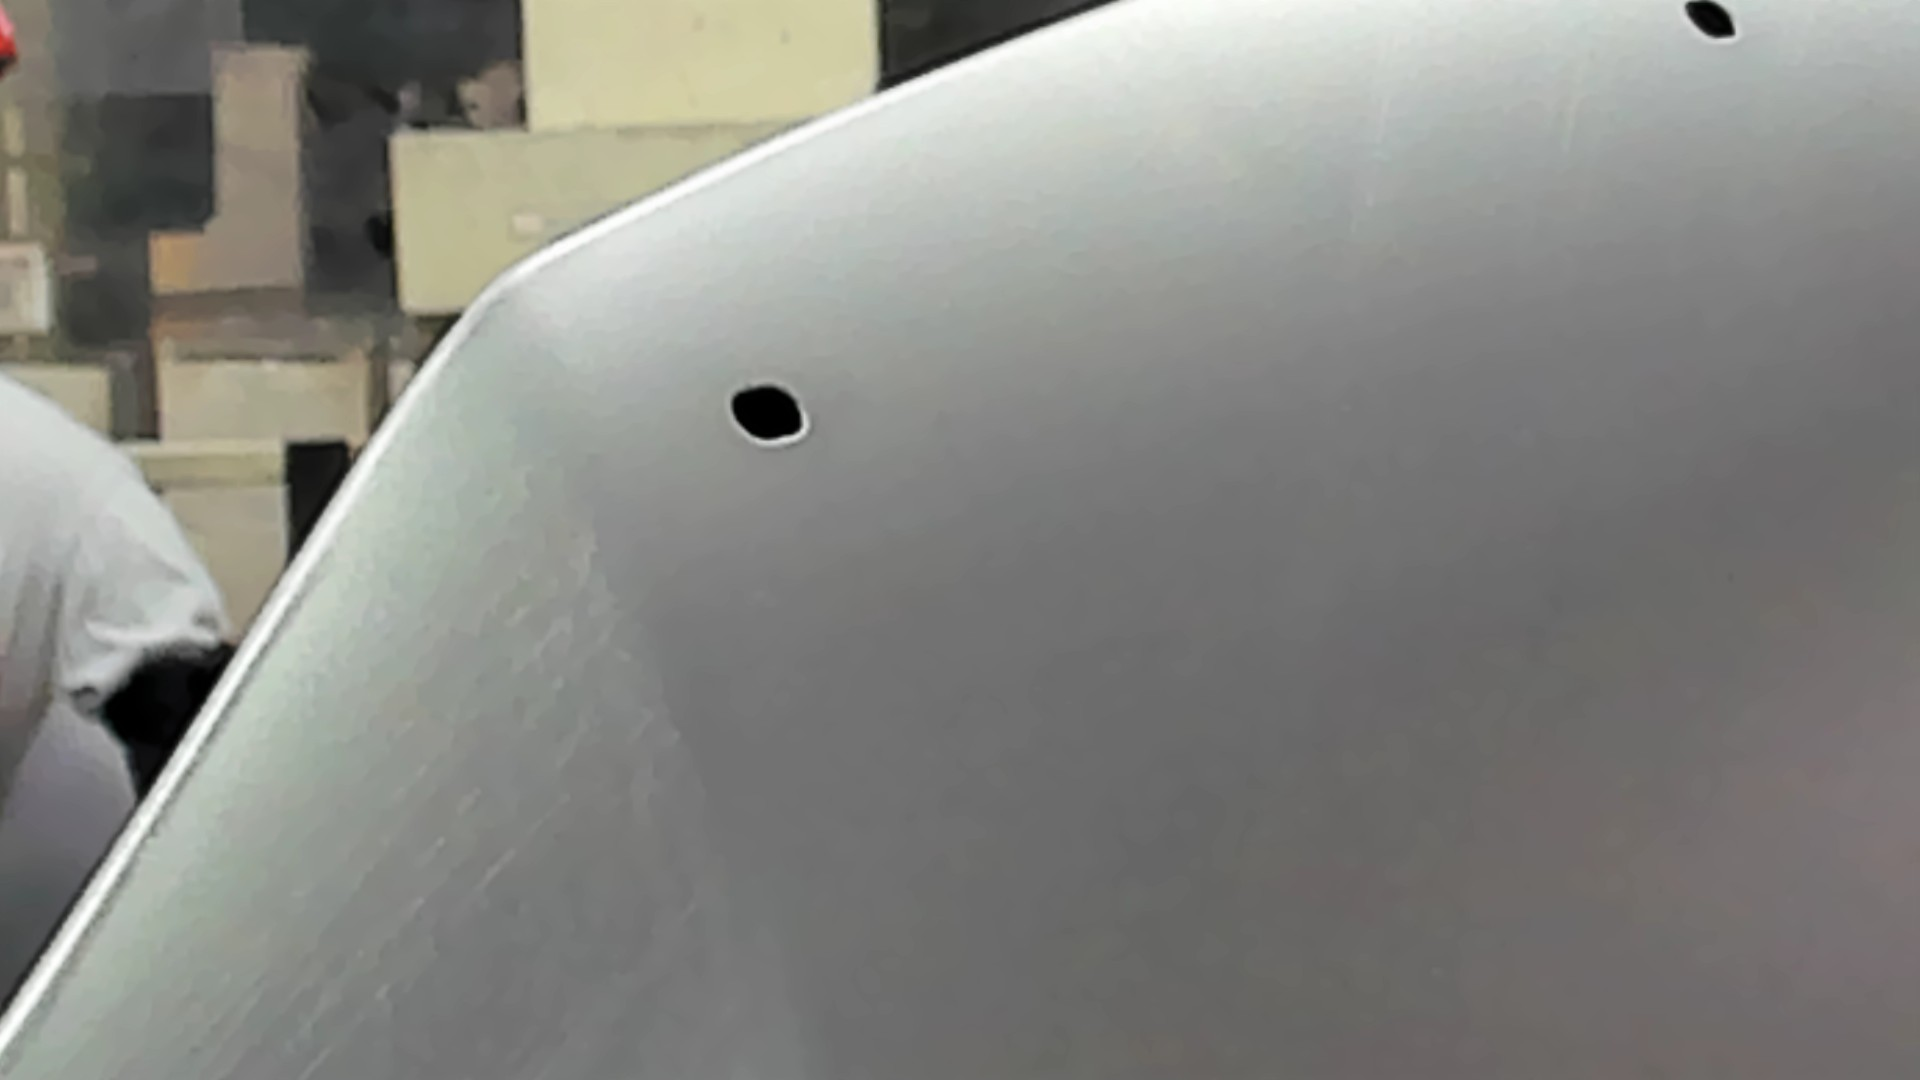amorfo: (720, 377, 814, 454), (1675, 1, 1743, 46)
capo: (893, 120, 1920, 1080)
